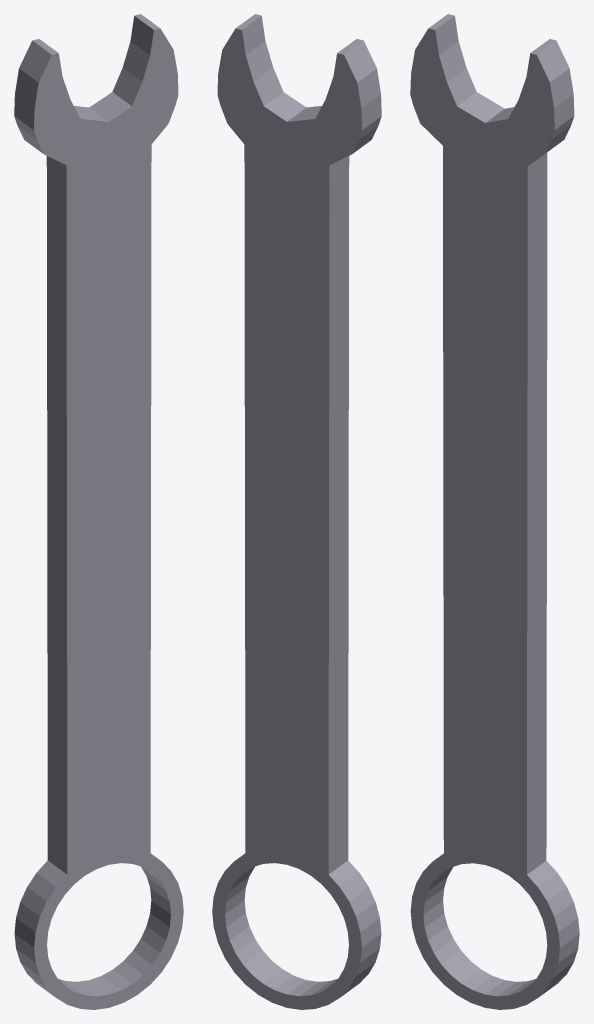
The model's file is Wrench.fbx.
3 renders of one model, left to right at view 1: azimuth 30°, elevation 25°; view 2: azimuth 150°, elevation 25°; view 3: azimuth 330°, elevation 25°, orthographic.
Parts seen in each view (by area): view 1: Screwdriver; view 2: Screwdriver; view 3: Screwdriver.
Part boxes in pixels (<box>): Screwdriver: <box>14,14,183,1009</box>; Screwdriver: <box>212,14,381,1009</box>; Screwdriver: <box>410,14,579,1009</box>.
Size of the model in its own units: 0.0252 by 0.1554 by 0.00573.
